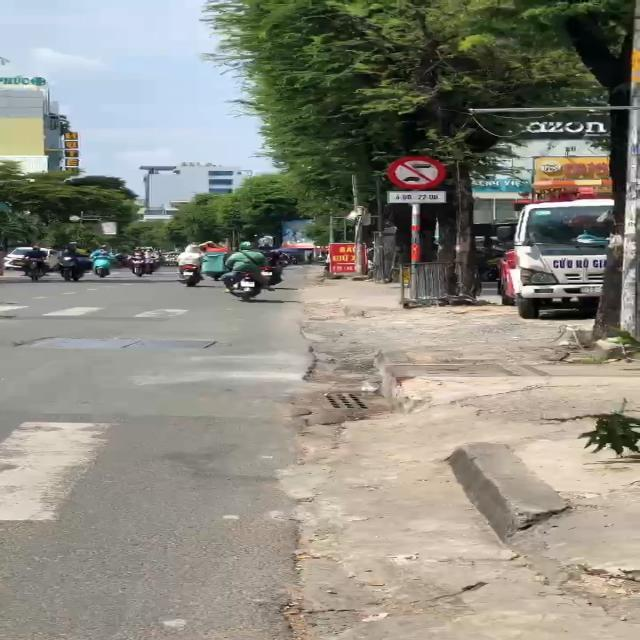Bien bao cam xe oto khach va xe oto tai: (380, 153, 444, 189)
